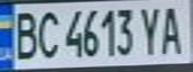1: (100, 6, 118, 57)
3: (115, 4, 139, 56)
4: (60, 6, 84, 58)
6: (81, 6, 103, 58)
A: (157, 1, 187, 55)
B: (9, 7, 42, 61)
C: (33, 7, 60, 60)
Y: (136, 2, 166, 56)
